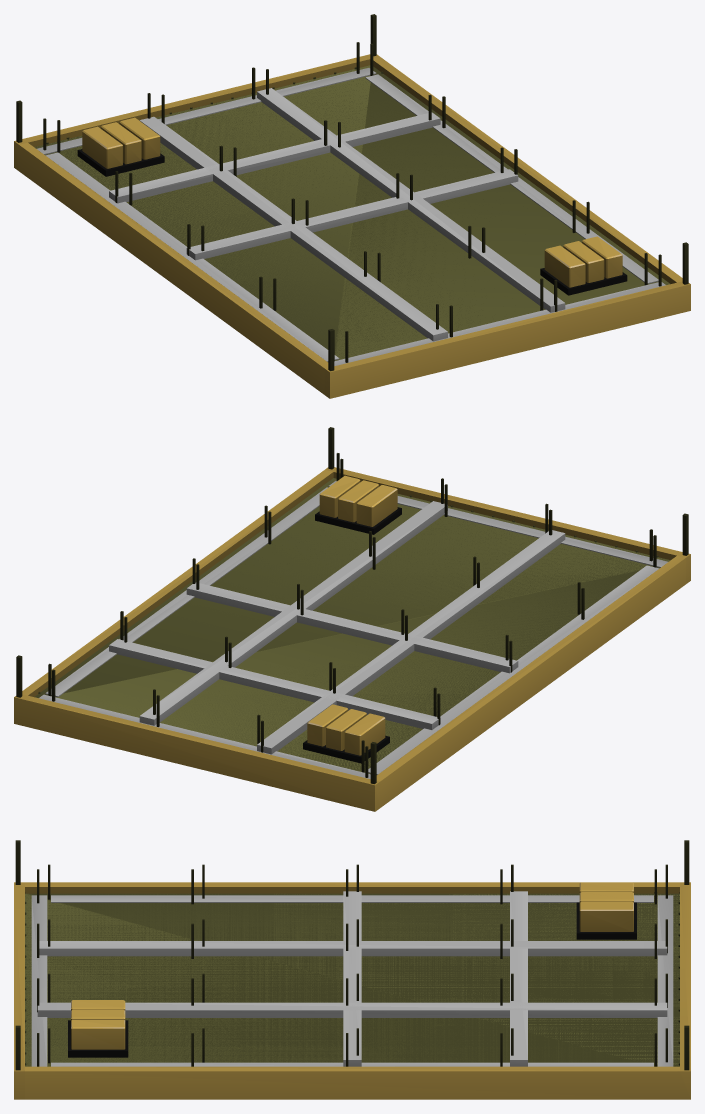
Rendered from meridian_power_plant_foundation.glb.
3 renders of one model, top to bottom at view 1: azimuth 30°, elevation 25°; view 2: azimuth 150°, elevation 25°; view 3: azimuth 270°, elevation 25°, orthographic. The views are drawn at different scales.
Parts seen in each view (by area): view 1: body (×3); view 2: body (×3); view 3: body (×3).
Boxes of the visible parts, bbox=[...] form: body (×3): bbox=[14, 14, 690, 398]; body (×3): bbox=[14, 427, 690, 811]; body (×3): bbox=[14, 840, 690, 1099].
Size of the model in its own units: 7.38 by 1.3 by 11.18.
